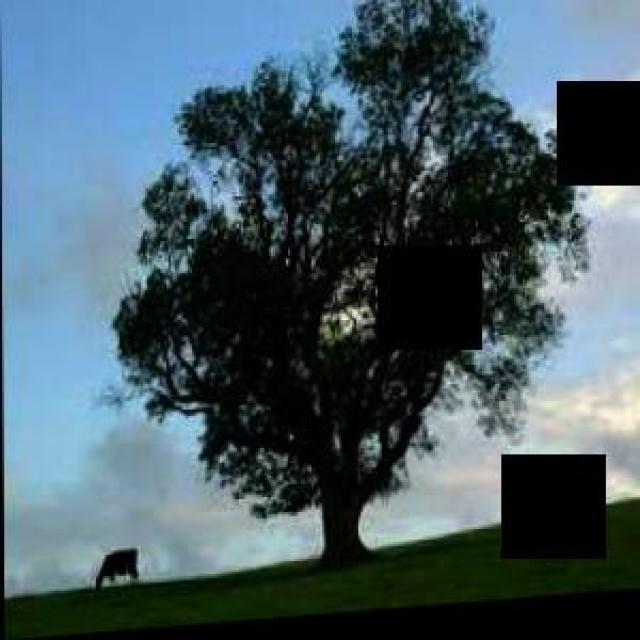tree: (110, 1, 590, 577)
